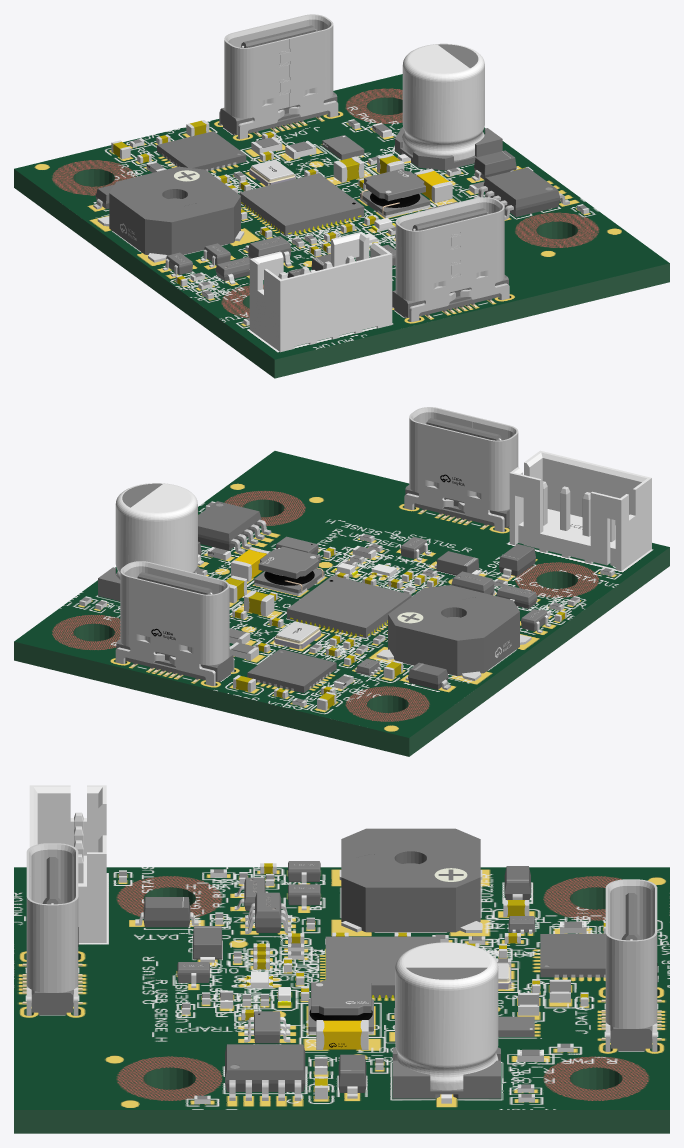
File: development-controller.glb
3 views of the same model, one above another, from view 1: azimuth 30°, elevation 25°; view 2: azimuth 150°, elevation 25°; view 3: azimuth 270°, elevation 25° (orthographic). The views are drawn at different scales.
Visible parts, largest first — view 1: Box0, J_MOTOR, J_DATA, J_PD, C_BULK, BZ1, U_MCU, U_PD, L_BUCK, U_DRV, D_PD, Y_MCU (+5 smaller); view 2: Box0, J_MOTOR, J_DATA, J_PD, BZ1, C_BULK, U_MCU, U_PD, L_BUCK, U_DRV, D_DATA, Y_MCU (+6 smaller); view 3: Box0, C_BULK, BZ1, J_DATA, J_PD, J_MOTOR, U_PD, U_MCU, U_DRV, L_BUCK, D_DATA, C_BUCK_IN (+11 smaller).
Boxes of the visible parts, left/top/right/bottom form: Box0: left=14, top=74, right=669, bottom=378; J_MOTOR: left=249, top=231, right=392, bottom=352; J_DATA: left=219, top=14, right=338, bottom=139; J_PD: left=392, top=197, right=509, bottom=321; C_BULK: left=395, top=43, right=502, bottom=170; BZ1: left=97, top=166, right=244, bottom=262; U_MCU: left=239, top=173, right=364, bottom=235; U_PD: left=473, top=167, right=569, bottom=219; L_BUCK: left=360, top=168, right=430, bottom=218; U_DRV: left=157, top=131, right=246, bottom=171; D_PD: left=471, top=150, right=518, bottom=181; Y_MCU: left=249, top=159, right=296, bottom=185; Box0: left=14, top=451, right=669, bottom=756; J_MOTOR: left=509, top=450, right=651, bottom=570; J_DATA: left=115, top=561, right=234, bottom=685; J_PD: left=404, top=407, right=518, bottom=531; BZ1: left=376, top=585, right=531, bottom=680; C_BULK: left=98, top=483, right=203, bottom=601; U_MCU: left=287, top=575, right=411, bottom=637; U_PD: left=198, top=501, right=271, bottom=554; L_BUCK: left=254, top=546, right=324, bottom=595; U_DRV: left=247, top=649, right=336, bottom=693; D_DATA: left=499, top=544, right=535, bottom=579; Y_MCU: left=274, top=621, right=320, bottom=649; Box0: left=14, top=867, right=669, bottom=1133; C_BULK: left=392, top=942, right=500, bottom=1103; BZ1: left=339, top=828, right=482, bottom=932; J_DATA: left=601, top=879, right=661, bottom=1051; J_PD: left=22, top=843, right=82, bottom=1015; J_MOTOR: left=29, top=785, right=106, bottom=942; U_PD: left=225, top=1044, right=305, bottom=1100; U_MCU: left=325, top=936, right=440, bottom=998; U_DRV: left=540, top=934, right=605, bottom=977; L_BUCK: left=308, top=980, right=373, bottom=1034; D_DATA: left=135, top=897, right=198, bottom=927; C_BUCK_IN: left=316, top=1020, right=368, bottom=1049.
Size of the model in its own units: 35 by 10.75 by 40.
29 materials, 2 textured.
